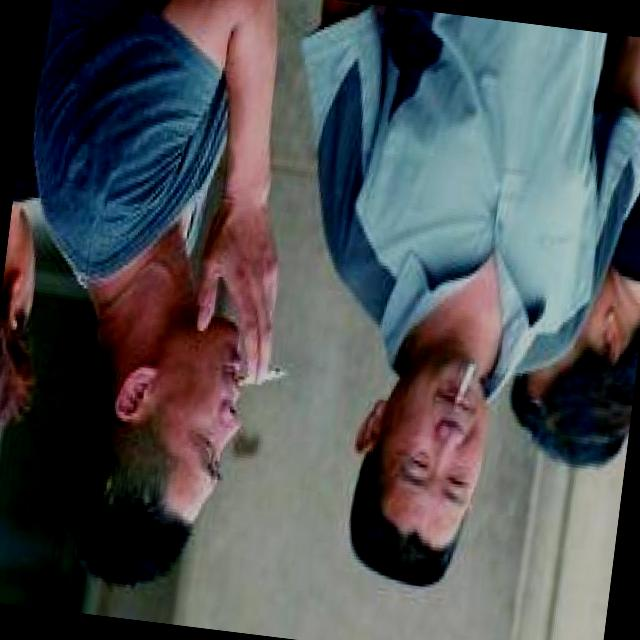cigarette: (222, 358, 287, 406), (444, 354, 476, 414)
